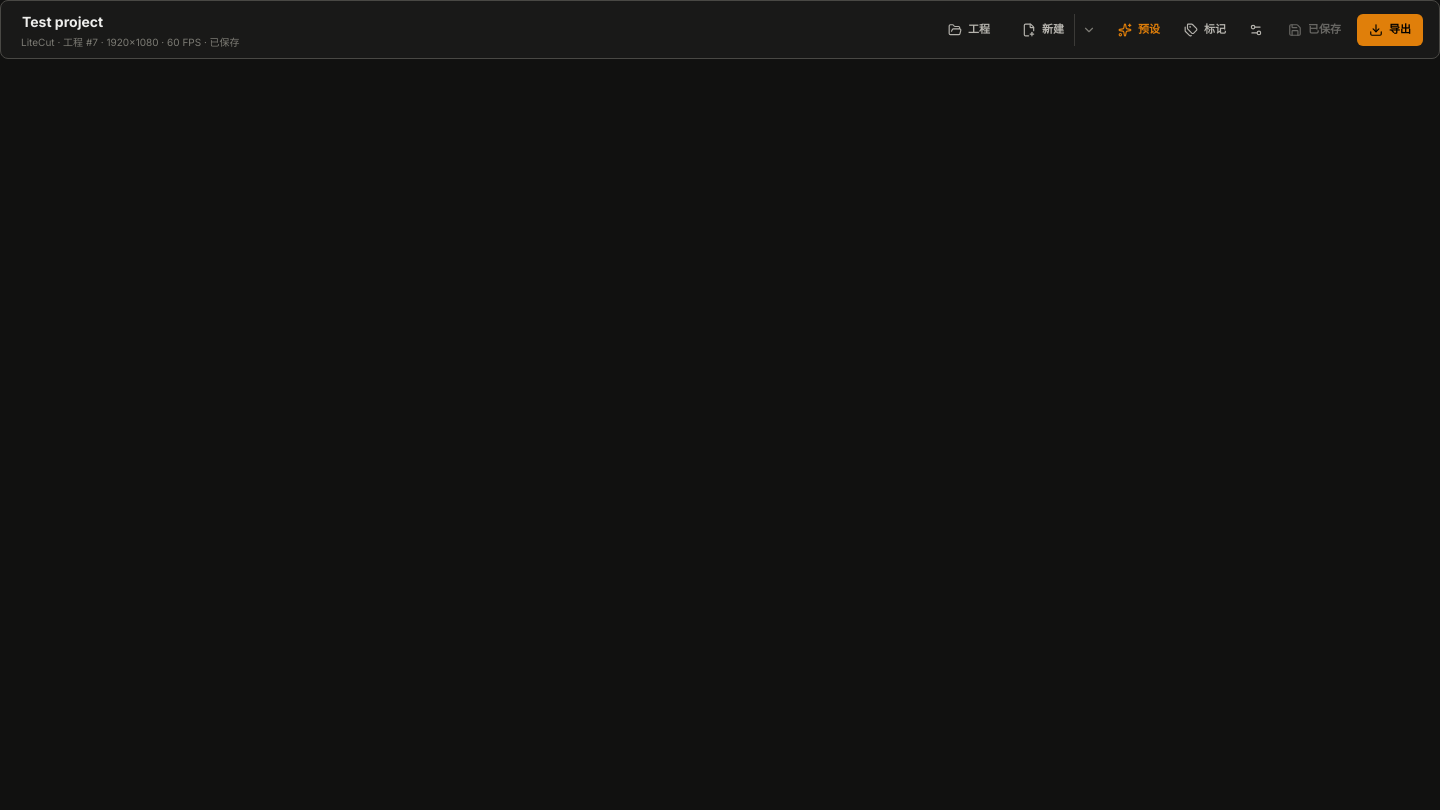
Test: LiteCutToolbar › opens the project manager above the editor workspace
The width and height of the screenshot is (1440, 810).
Click the button titled "打开工程管理".
click(969, 30)  # box [938,14,1000,46]
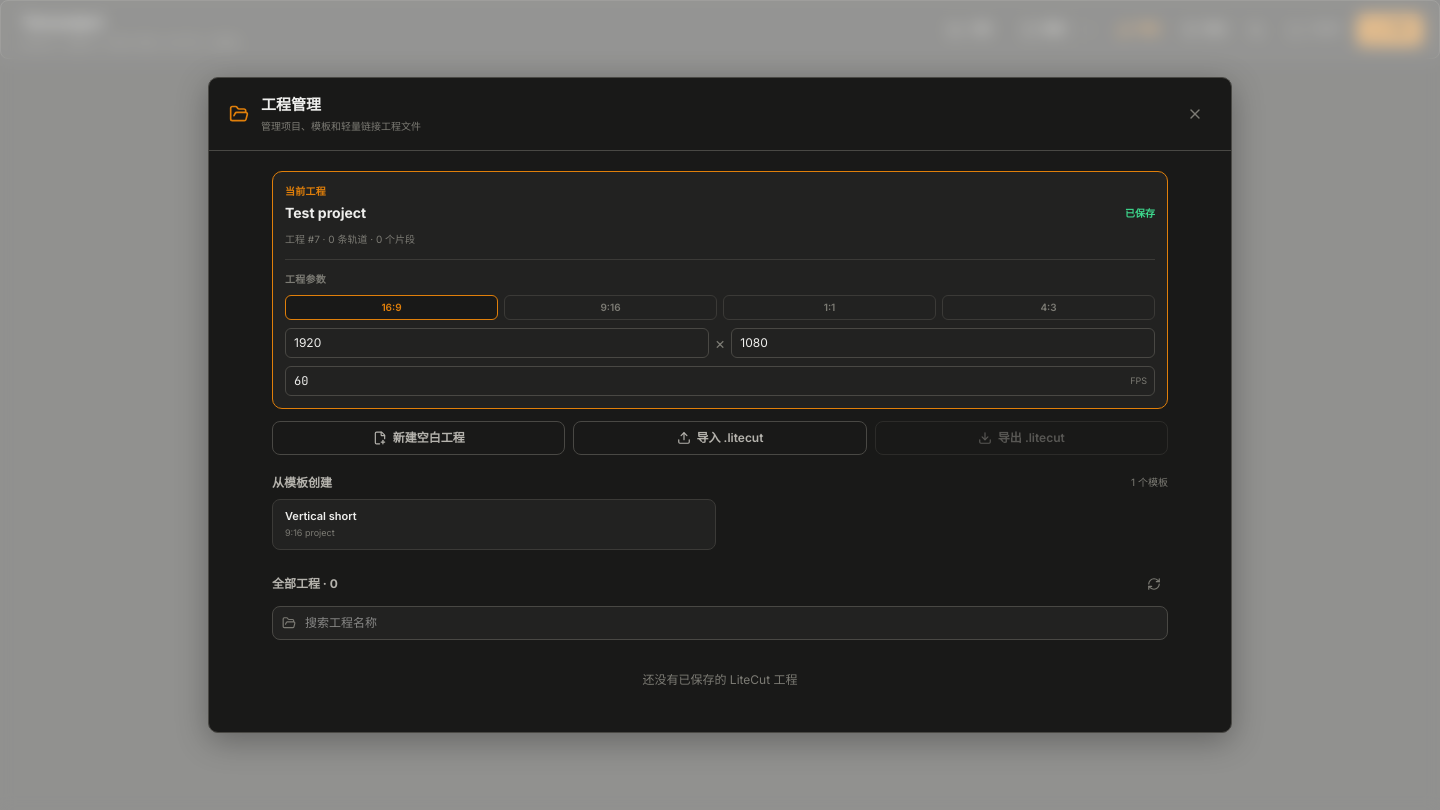
Expected: the dialog "工程管理" is shown, [208,77,1232,733]
